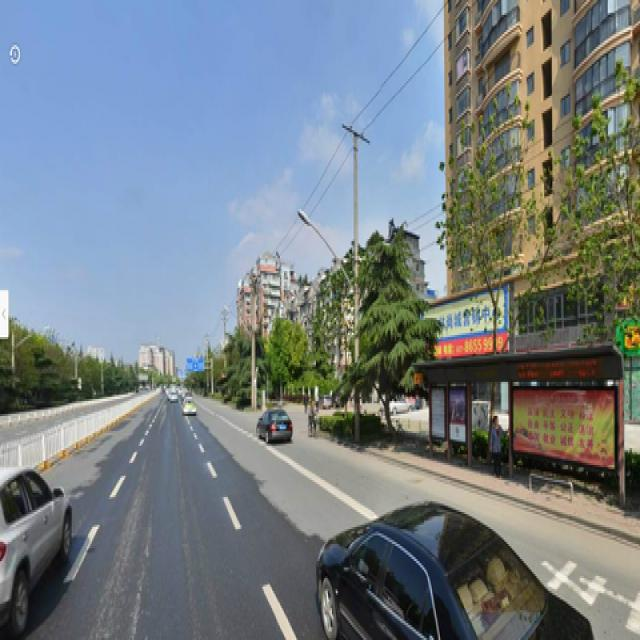cedr: (358, 228, 426, 440)
